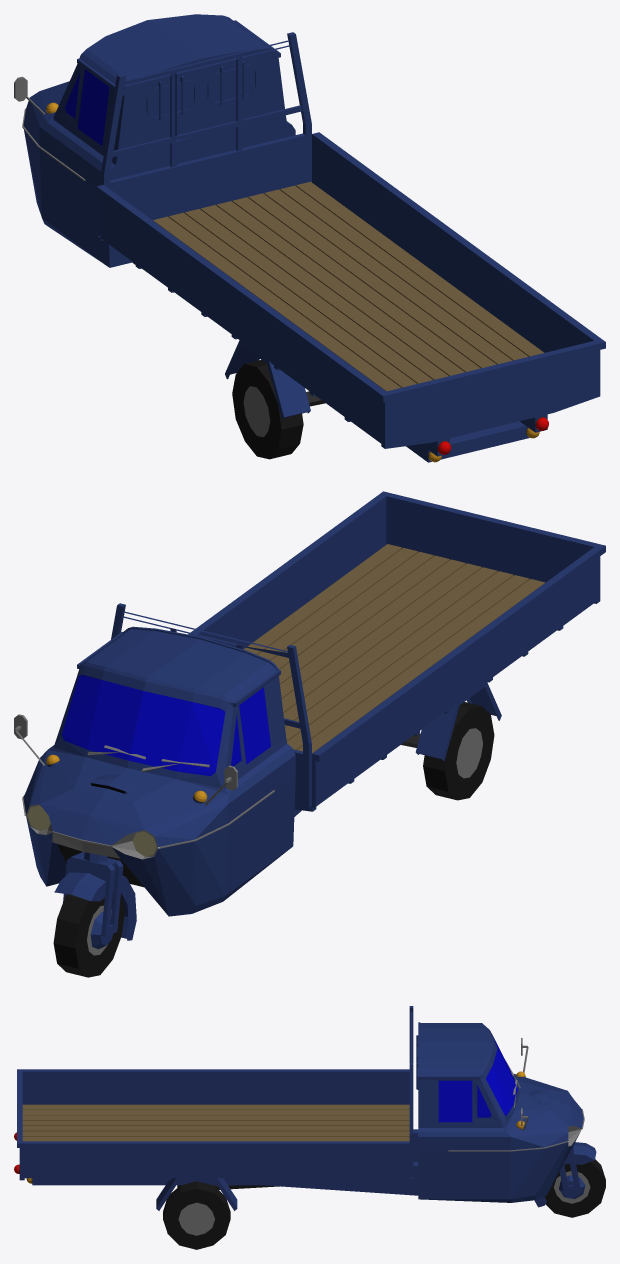
3 renders of one model, top to bottom at view 1: azimuth 30°, elevation 25°; view 2: azimuth 150°, elevation 25°; view 3: azimuth 270°, elevation 25°, orthographic. The views are drawn at different scales.
Parts seen in each view (by area): view 1: ShapeIndexedFaceSet.009_ShapeIndexedFaceSet.010, ShapeIndexedFaceSet_ShapeIndexedFaceSet.001, ShapeIndexedFaceSet.005_ShapeIndexedFaceSet.006, ShapeIndexedFaceSet.036_ShapeIndexedFaceSet.037, ShapeIndexedFaceSet.031_ShapeIndexedFaceSet.032, ShapeIndexedFaceSet.037_ShapeIndexedFaceSet.038, ShapeIndexedFaceSet.034_ShapeIndexedFaceSet.035, ShapeIndexedFaceSet.032_ShapeIndexedFaceSet.033, ShapeIndexedFaceSet.038_ShapeIndexedFaceSet.039, ShapeIndexedFaceSet.035_ShapeIndexedFaceSet.036, ShapeIndexedFaceSet.033_ShapeIndexedFaceSet.034, ShapeIndexedFaceSet.030_ShapeIndexedFaceSet.031 (+6 smaller); view 2: ShapeIndexedFaceSet_ShapeIndexedFaceSet.001, ShapeIndexedFaceSet.009_ShapeIndexedFaceSet.010, ShapeIndexedFaceSet.001_ShapeIndexedFaceSet.002, ShapeIndexedFaceSet.058_ShapeIndexedFaceSet.059, ShapeIndexedFaceSet.030_ShapeIndexedFaceSet.031, ShapeIndexedFaceSet.061_ShapeIndexedFaceSet.062, ShapeIndexedFaceSet.029_ShapeIndexedFaceSet.030, ShapeIndexedFaceSet.021_ShapeIndexedFaceSet.022, ShapeIndexedFaceSet.031_ShapeIndexedFaceSet.032, ShapeIndexedFaceSet.032_ShapeIndexedFaceSet.033, ShapeIndexedFaceSet.033_ShapeIndexedFaceSet.034, ShapeIndexedFaceSet.034_ShapeIndexedFaceSet.035 (+10 smaller); view 3: ShapeIndexedFaceSet.009_ShapeIndexedFaceSet.010, ShapeIndexedFaceSet_ShapeIndexedFaceSet.001, ShapeIndexedFaceSet.001_ShapeIndexedFaceSet.002, ShapeIndexedFaceSet.023_ShapeIndexedFaceSet.024, ShapeIndexedFaceSet.031_ShapeIndexedFaceSet.032, ShapeIndexedFaceSet.028_ShapeIndexedFaceSet.029, ShapeIndexedFaceSet.030_ShapeIndexedFaceSet.031, ShapeIndexedFaceSet.029_ShapeIndexedFaceSet.030, ShapeIndexedFaceSet.027_ShapeIndexedFaceSet.028, ShapeIndexedFaceSet.026_ShapeIndexedFaceSet.027, ShapeIndexedFaceSet.032_ShapeIndexedFaceSet.033, ShapeIndexedFaceSet.061_ShapeIndexedFaceSet.062 (+4 smaller).
Part boxes in pixels (x1,y1,x2,y2): ShapeIndexedFaceSet.009_ShapeIndexedFaceSet.010: [96, 32, 605, 462]; ShapeIndexedFaceSet_ShapeIndexedFaceSet.001: [23, 14, 291, 267]; ShapeIndexedFaceSet.005_ShapeIndexedFaceSet.006: [109, 48, 295, 267]; ShapeIndexedFaceSet.036_ShapeIndexedFaceSet.037: [264, 189, 512, 364]; ShapeIndexedFaceSet.031_ShapeIndexedFaceSet.032: [184, 209, 432, 383]; ShapeIndexedFaceSet.037_ShapeIndexedFaceSet.038: [280, 185, 528, 360]; ShapeIndexedFaceSet.034_ShapeIndexedFaceSet.035: [232, 197, 480, 372]; ShapeIndexedFaceSet.032_ShapeIndexedFaceSet.033: [200, 205, 448, 379]; ShapeIndexedFaceSet.038_ShapeIndexedFaceSet.039: [296, 181, 544, 356]; ShapeIndexedFaceSet.035_ShapeIndexedFaceSet.036: [248, 193, 496, 368]; ShapeIndexedFaceSet.033_ShapeIndexedFaceSet.034: [216, 201, 464, 375]; ShapeIndexedFaceSet.030_ShapeIndexedFaceSet.031: [168, 212, 416, 387]; ShapeIndexedFaceSet_ShapeIndexedFaceSet.001: [23, 626, 295, 916]; ShapeIndexedFaceSet.009_ShapeIndexedFaceSet.010: [111, 491, 605, 816]; ShapeIndexedFaceSet.001_ShapeIndexedFaceSet.002: [61, 675, 270, 776]; ShapeIndexedFaceSet.058_ShapeIndexedFaceSet.059: [54, 852, 136, 949]; ShapeIndexedFaceSet.030_ShapeIndexedFaceSet.031: [287, 575, 529, 749]; ShapeIndexedFaceSet.061_ShapeIndexedFaceSet.062: [53, 892, 124, 977]; ShapeIndexedFaceSet.029_ShapeIndexedFaceSet.030: [297, 579, 545, 753]; ShapeIndexedFaceSet.021_ShapeIndexedFaceSet.022: [423, 702, 494, 800]; ShapeIndexedFaceSet.031_ShapeIndexedFaceSet.032: [285, 571, 513, 741]; ShapeIndexedFaceSet.032_ShapeIndexedFaceSet.033: [283, 567, 497, 727]; ShapeIndexedFaceSet.033_ShapeIndexedFaceSet.034: [281, 563, 481, 712]; ShapeIndexedFaceSet.034_ShapeIndexedFaceSet.035: [280, 559, 465, 698]; ShapeIndexedFaceSet.009_ShapeIndexedFaceSet.010: [17, 1006, 418, 1195]; ShapeIndexedFaceSet_ShapeIndexedFaceSet.001: [418, 1022, 583, 1202]; ShapeIndexedFaceSet.001_ShapeIndexedFaceSet.002: [438, 1036, 517, 1122]; ShapeIndexedFaceSet.023_ShapeIndexedFaceSet.024: [163, 1181, 230, 1249]; ShapeIndexedFaceSet.031_ShapeIndexedFaceSet.032: [22, 1131, 409, 1136]; ShapeIndexedFaceSet.028_ShapeIndexedFaceSet.029: [22, 1115, 409, 1120]; ShapeIndexedFaceSet.030_ShapeIndexedFaceSet.031: [22, 1126, 409, 1131]; ShapeIndexedFaceSet.029_ShapeIndexedFaceSet.030: [22, 1120, 409, 1125]; ShapeIndexedFaceSet.027_ShapeIndexedFaceSet.028: [22, 1110, 409, 1115]; ShapeIndexedFaceSet.026_ShapeIndexedFaceSet.027: [22, 1104, 409, 1109]; ShapeIndexedFaceSet.032_ShapeIndexedFaceSet.033: [22, 1136, 409, 1141]; ShapeIndexedFaceSet.061_ShapeIndexedFaceSet.062: [544, 1159, 605, 1217].
Bounding box in the file's own units: 18.2 × 20.4 × 61.2.
